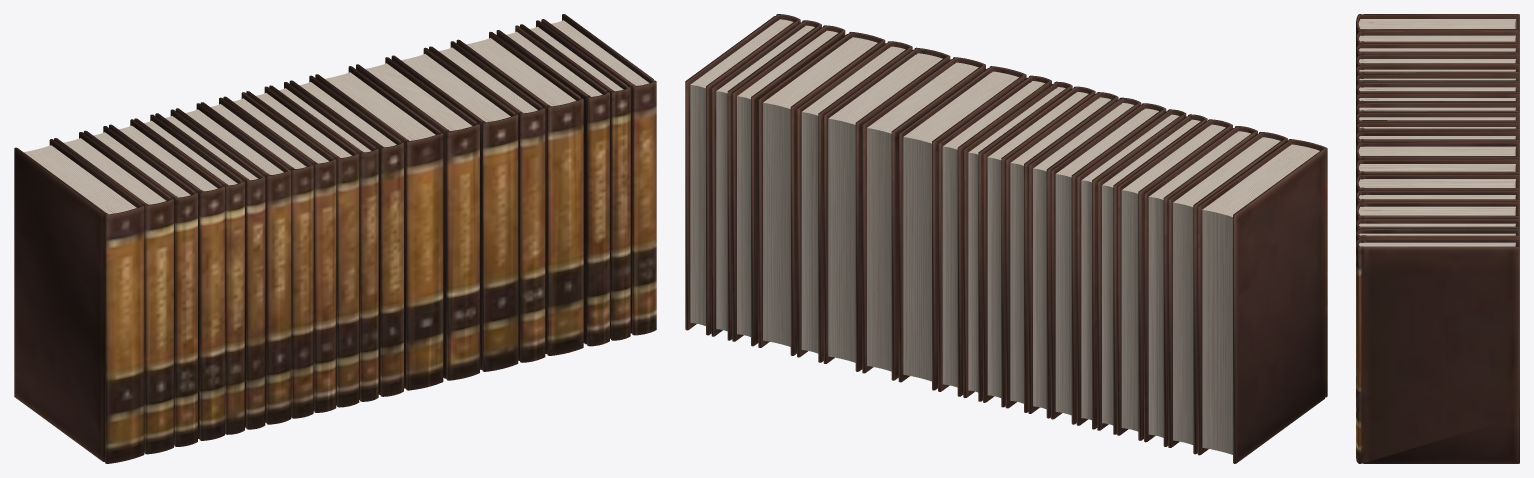
File: books.6602fbb0.glb
3 views of the same model, side by side, from view 1: azimuth 30°, elevation 25°; view 2: azimuth 150°, elevation 25°; view 3: azimuth 270°, elevation 25° (orthographic). The views are drawn at different scales.
Visible parts, largest first — view 1: book_encyclopedia_set_01_book01; view 2: book_encyclopedia_set_01_book01; view 3: book_encyclopedia_set_01_book01.
Boxes of the visible parts, x1,y1,x2,y2 form: book_encyclopedia_set_01_book01: [14, 14, 656, 463]; book_encyclopedia_set_01_book01: [685, 14, 1327, 463]; book_encyclopedia_set_01_book01: [1356, 14, 1519, 463].
Bounding box in the file's own units: 0.5513 × 0.2374 × 0.1631.
Materials: 2 (2 with a texture image).
